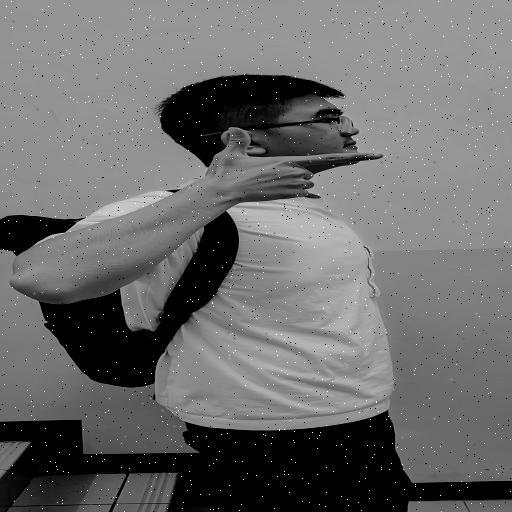next: (186, 115, 399, 214)
